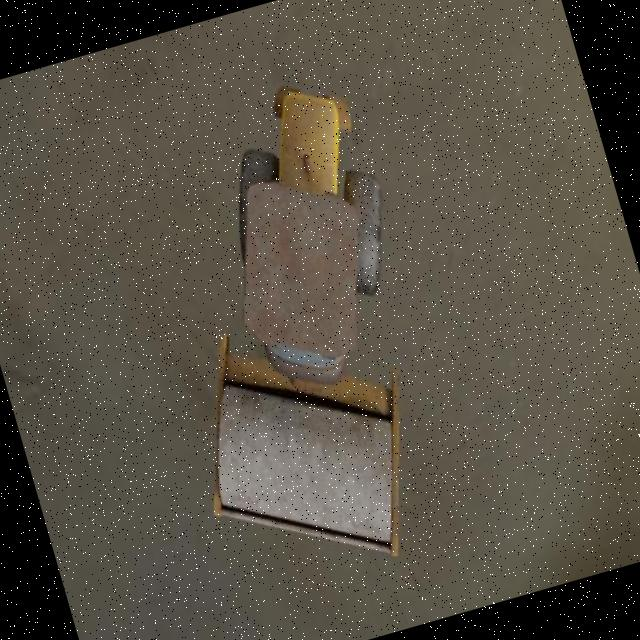Roller: (105, 65, 480, 601)
